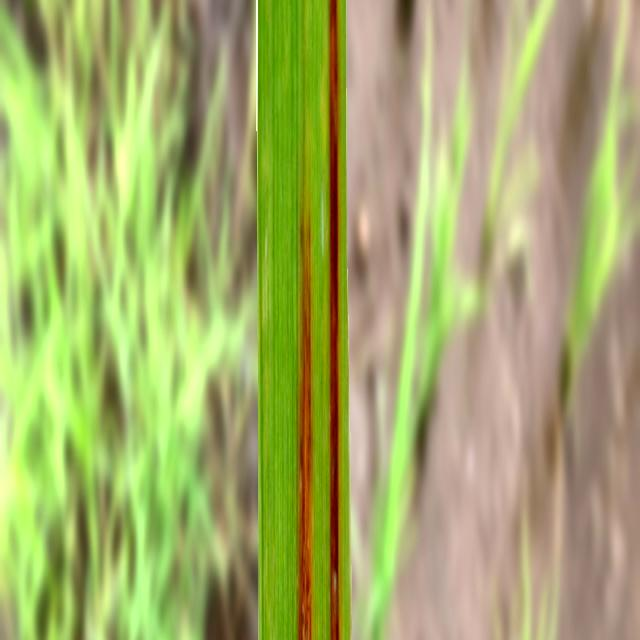NBS: (297, 86, 313, 640), (328, 0, 340, 640)
